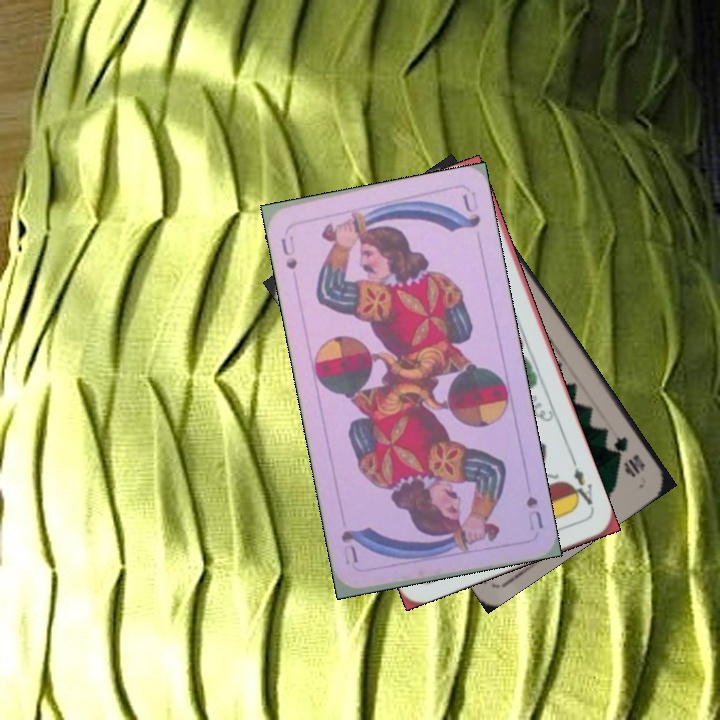EA: (564, 463, 597, 512)
G10: (609, 432, 648, 480)
SU: (522, 492, 546, 533), (277, 231, 300, 272)
